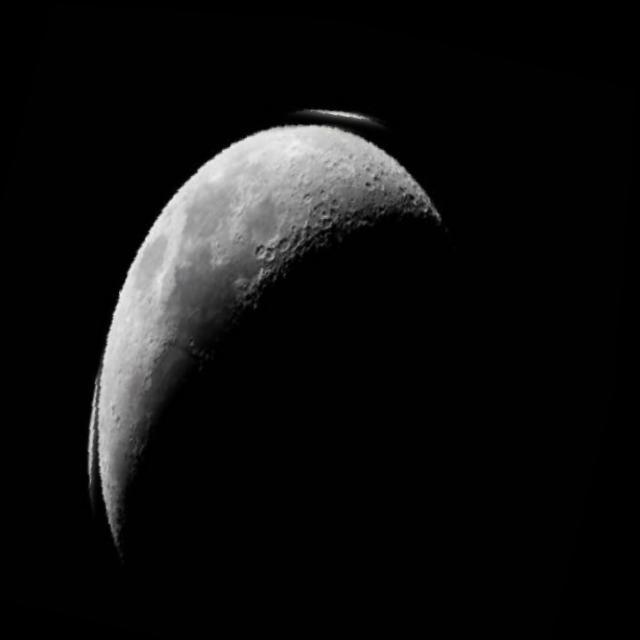moon: (46, 49, 578, 640)
